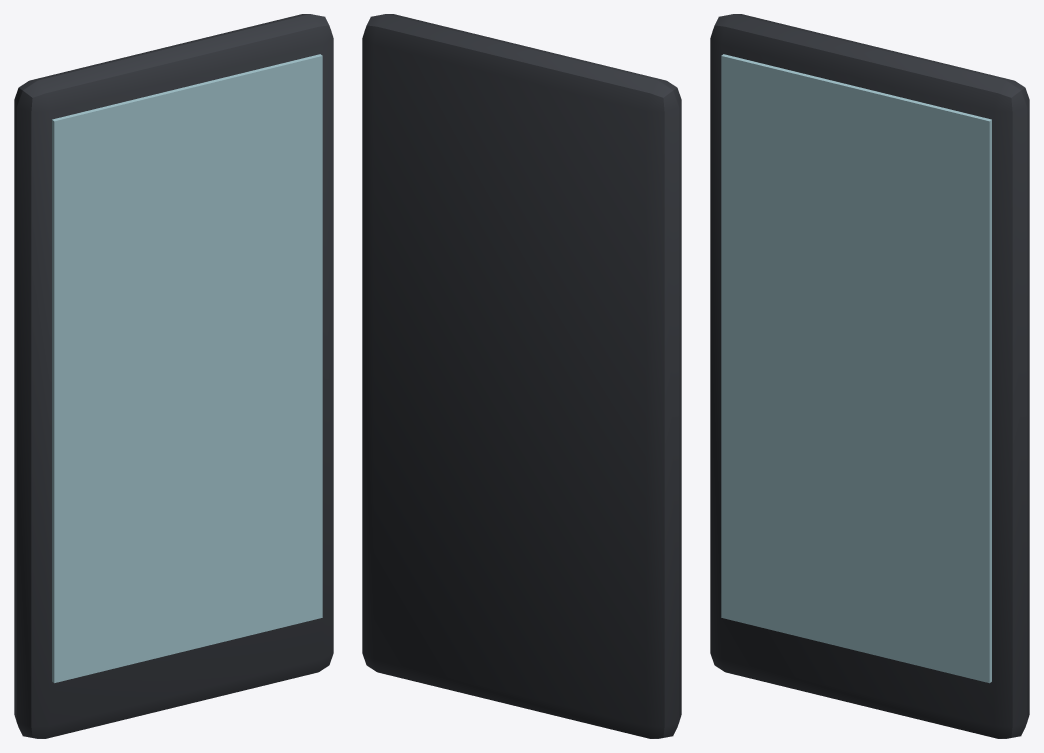
Rendered from smartphone.glb.
3 views of the same model, side by side, from view 1: azimuth 30°, elevation 25°; view 2: azimuth 150°, elevation 25°; view 3: azimuth 330°, elevation 25° (orthographic).
Visible parts, largest first — view 1: smartphone; view 2: smartphone; view 3: smartphone.
Boxes of the visible parts, x1,y1,x2,y2 form: smartphone: (14, 14, 333, 738); smartphone: (362, 14, 681, 738); smartphone: (710, 14, 1029, 738).
Size of the model in its own units: 0.075 by 0.15 by 0.011.
